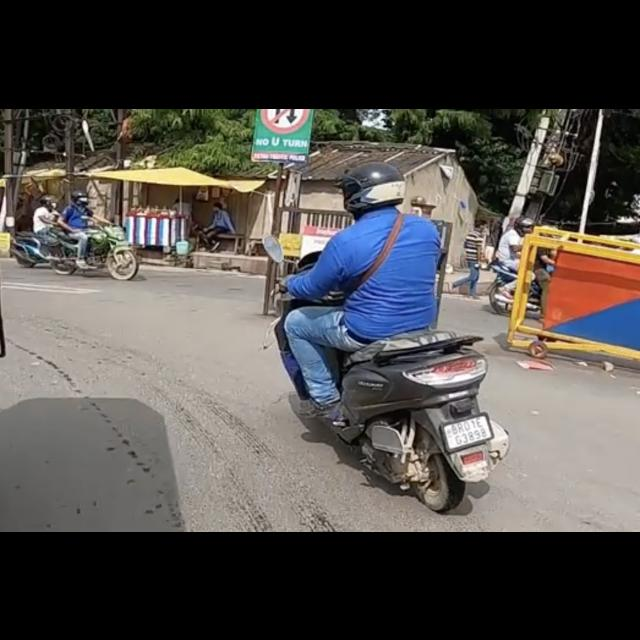with helmet: (340, 160, 406, 212)
